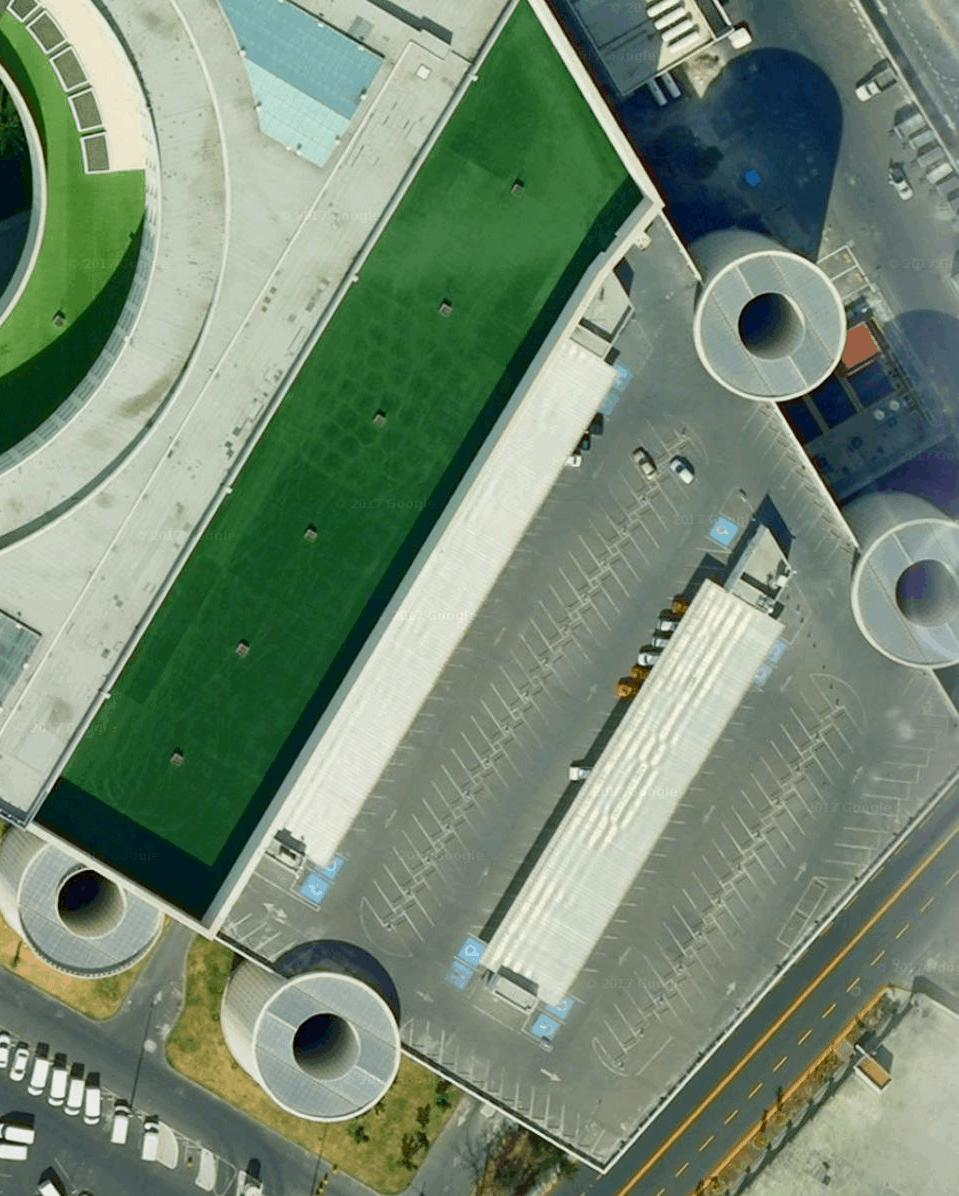parkingspot: (360, 407, 685, 929), (391, 434, 711, 961), (438, 507, 757, 1001), (344, 358, 638, 831), (592, 671, 837, 1073), (578, 634, 795, 974), (650, 703, 866, 1042), (810, 712, 950, 883), (408, 1014, 582, 1149), (0, 1023, 160, 1163), (739, 398, 855, 580), (847, 59, 958, 229), (218, 909, 322, 974), (775, 876, 830, 950), (520, 990, 588, 1049), (288, 850, 350, 911), (813, 242, 873, 304), (251, 852, 301, 895), (899, 668, 934, 709), (588, 1127, 623, 1166)
